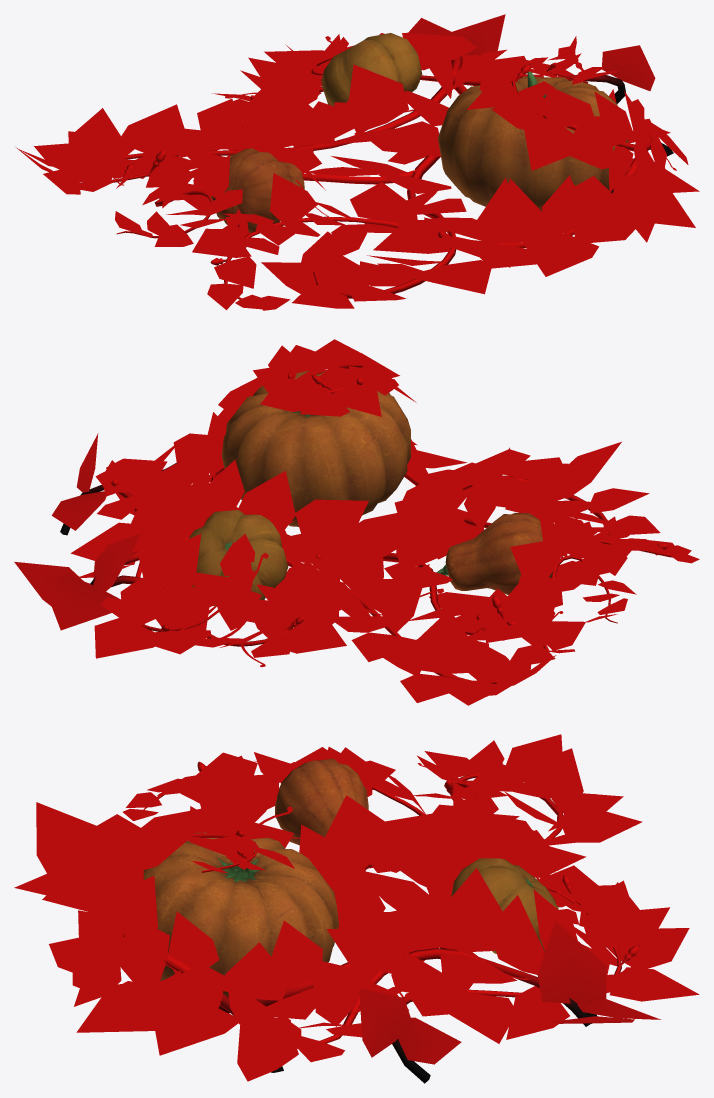
The model's file is SM_Farm_PumpkinFruits_01.fbx.
The picture shows the model from 3 angles, top to bottom: view 1: azimuth 30°, elevation 25°; view 2: azimuth 150°, elevation 25°; view 3: azimuth 270°, elevation 25°; orthographic projection. The views are drawn at different scales.
Visible parts, largest first — view 1: SM_Farm_PumpkinFruits_01_LOD0; view 2: SM_Farm_PumpkinFruits_01_LOD0; view 3: SM_Farm_PumpkinFruits_01_LOD0.
Boxes of the visible parts, x1,y1,x2,y2 form: SM_Farm_PumpkinFruits_01_LOD0: [16, 14, 699, 310]; SM_Farm_PumpkinFruits_01_LOD0: [14, 339, 699, 705]; SM_Farm_PumpkinFruits_01_LOD0: [14, 734, 699, 1083].
Size of the model in its own units: 236 by 63.51 by 225.
